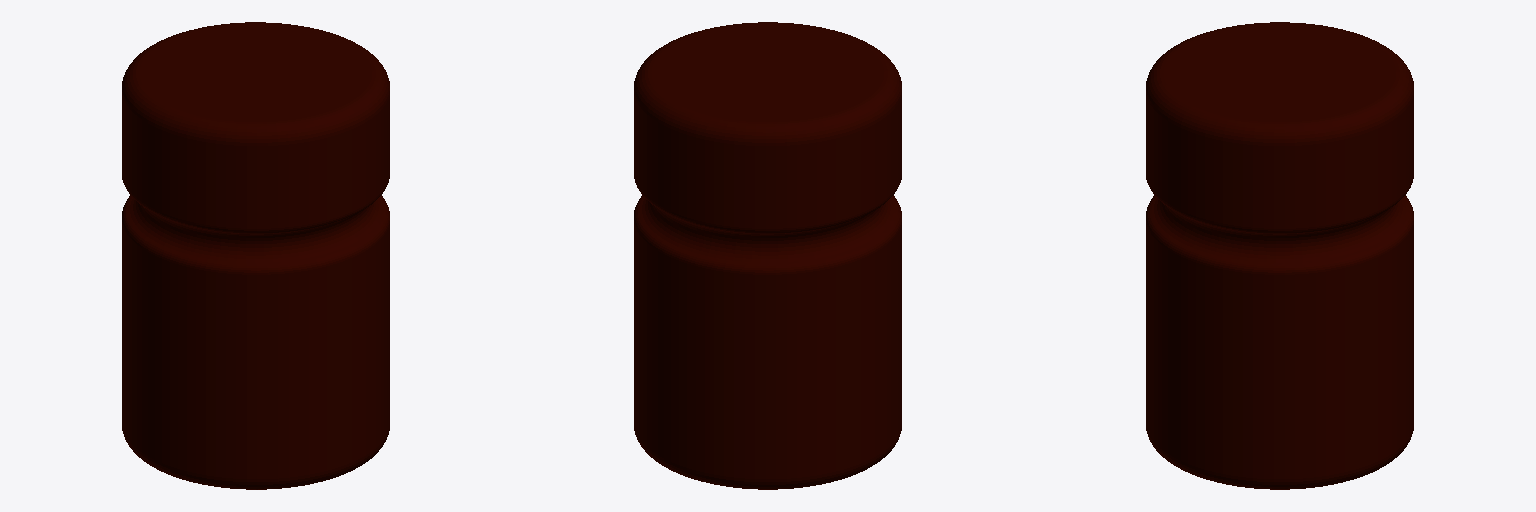
File: petit-rond-marron.obj
3 views of the same model, side by side, from view 1: azimuth 30°, elevation 25°; view 2: azimuth 150°, elevation 25°; view 3: azimuth 270°, elevation 25° (orthographic).
Visible parts, largest first — view 1: quarto-pieces.005; view 2: quarto-pieces.005; view 3: quarto-pieces.005.
Part boxes in pixels (bbox=[...]): quarto-pieces.005: bbox=[122, 22, 389, 489]; quarto-pieces.005: bbox=[634, 22, 901, 489]; quarto-pieces.005: bbox=[1146, 22, 1413, 489].
Bounding box in the file's own units: 29.98 × 45 × 29.98.